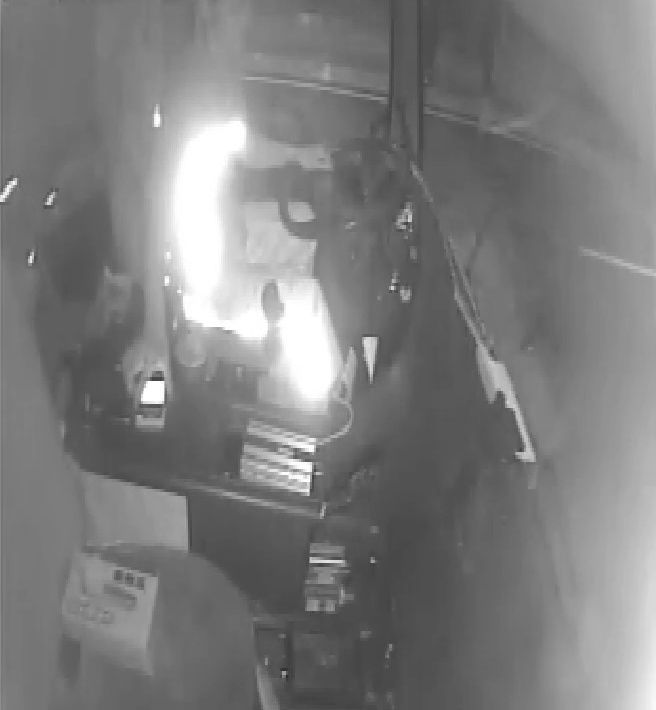cellphone: (132, 359, 166, 433)
